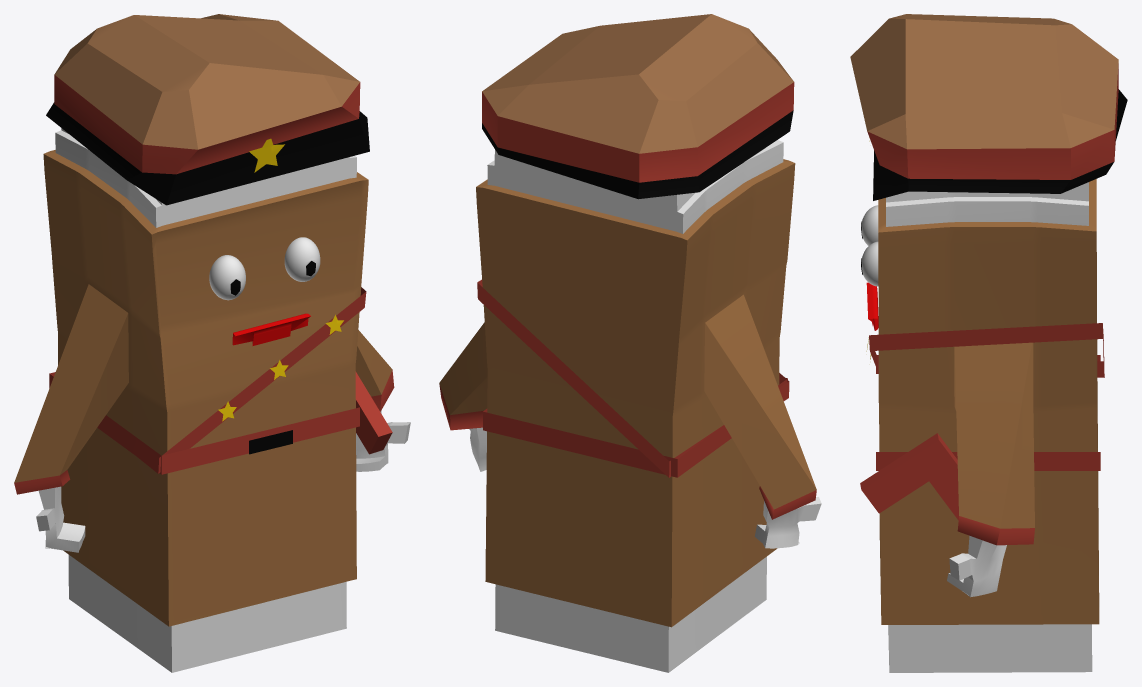
File: eraserP.fbx
3 views of the same model, side by side, from view 1: azimuth 30°, elevation 25°; view 2: azimuth 150°, elevation 25°; view 3: azimuth 270°, elevation 25° (orthographic).
Parts seen in each view (by area): view 1: pCube5; view 2: pCube5; view 3: pCube5.
Part boxes in pixels (x1,y1,x2,y2): pCube5: (14,14,410,672); pCube5: (439,14,821,672); pCube5: (850,14,1127,672).
Size of the model in its own units: 2.17 by 3.22 by 1.37.
